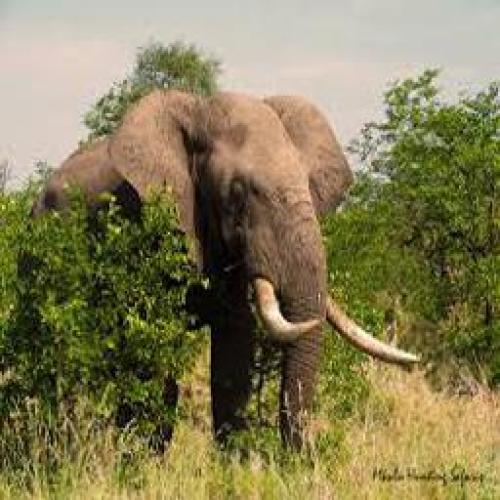african_elephant-endangered: (40, 91, 425, 458)
